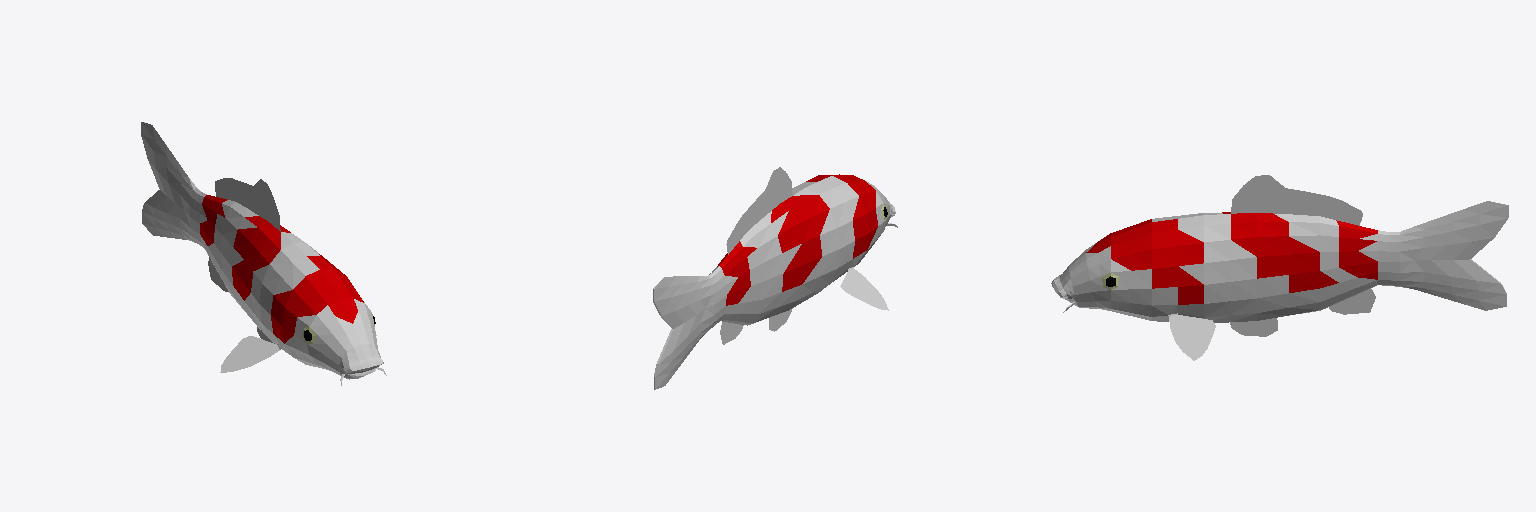
The model's file is koiFish.obj.
The picture shows the model from 3 angles: view 1: azimuth 30°, elevation 25°; view 2: azimuth 150°, elevation 25°; view 3: azimuth 270°, elevation 25°; orthographic projection.
Parts seen in each view (by area): view 1: Koi.002_White_0, Koi.002_red_0; view 2: Koi.002_White_0, Koi.002_red_0; view 3: Koi.002_White_0, Koi.002_red_0.
Boxes of the visible parts, <box> form: Koi.002_White_0: <box>141,122,386,385</box>; Koi.002_red_0: <box>200,195,363,343</box>; Koi.002_White_0: <box>653,167,897,389</box>; Koi.002_red_0: <box>717,174,877,305</box>; Koi.002_White_0: <box>1051,175,1508,360</box>; Koi.002_red_0: <box>1086,212,1377,304</box>.
Size of the model in its own units: 1.63 by 1.61 by 4.12.